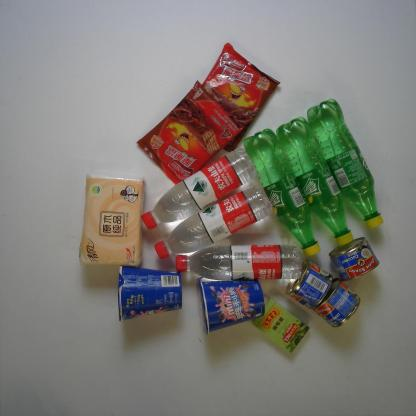Candy: (252, 299, 310, 355)
Canned Food: (282, 258, 337, 312), (310, 274, 363, 329), (326, 236, 379, 283)
Dessert: (139, 79, 243, 187), (185, 42, 283, 155), (192, 273, 268, 336), (116, 262, 183, 321)
Drink: (272, 112, 355, 248), (138, 143, 266, 230), (242, 125, 323, 262), (304, 96, 384, 232), (150, 180, 276, 262), (174, 246, 309, 282)
Tissue: (76, 172, 148, 271)
